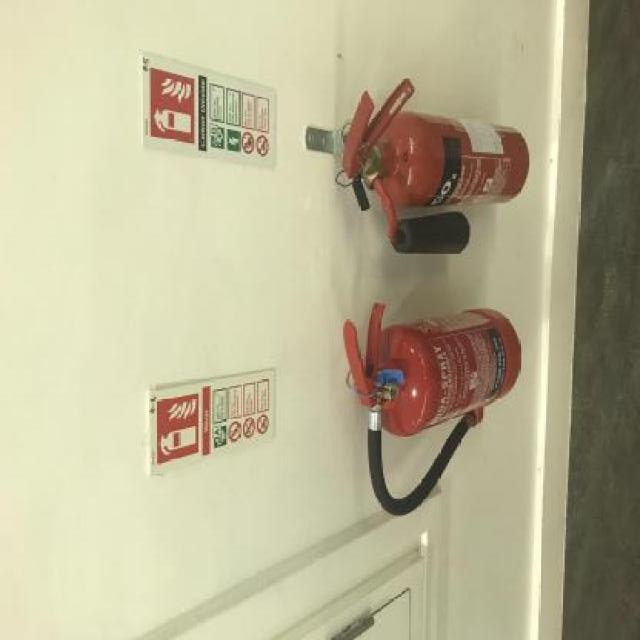fire extinguisher: (344, 301, 521, 515), (340, 72, 529, 254)
